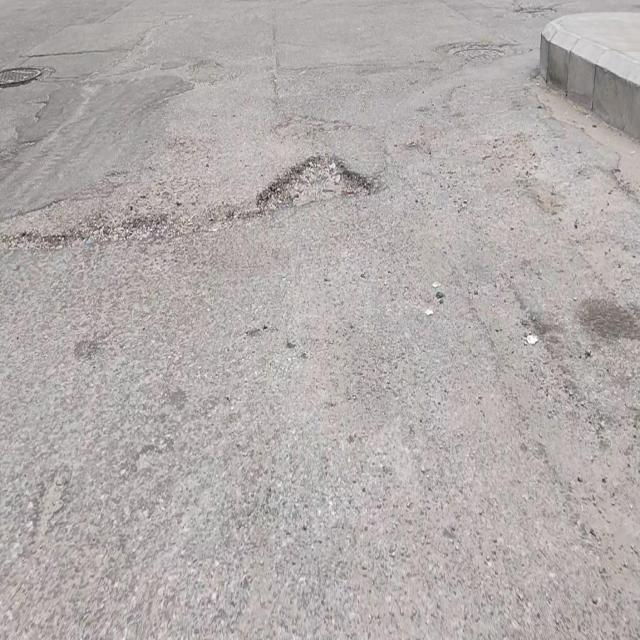Potholes: (256, 150, 369, 213)
